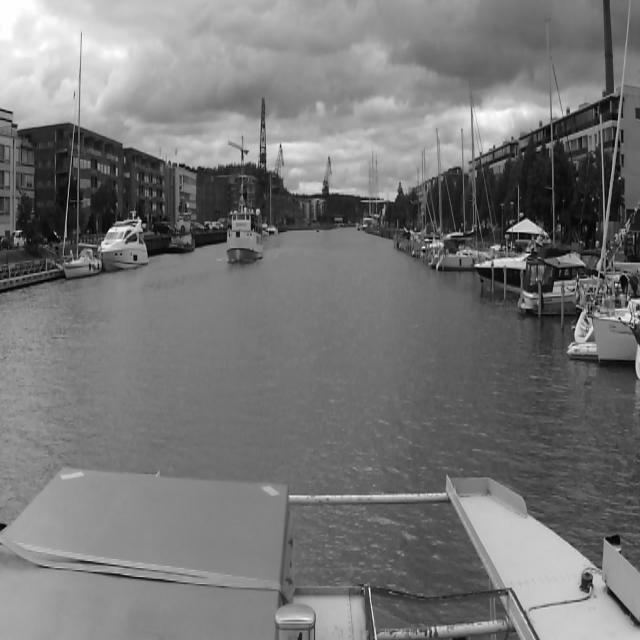ship: (50, 30, 101, 278), (473, 242, 569, 298), (520, 257, 606, 309), (100, 222, 148, 268), (228, 210, 262, 260), (165, 210, 198, 258)
